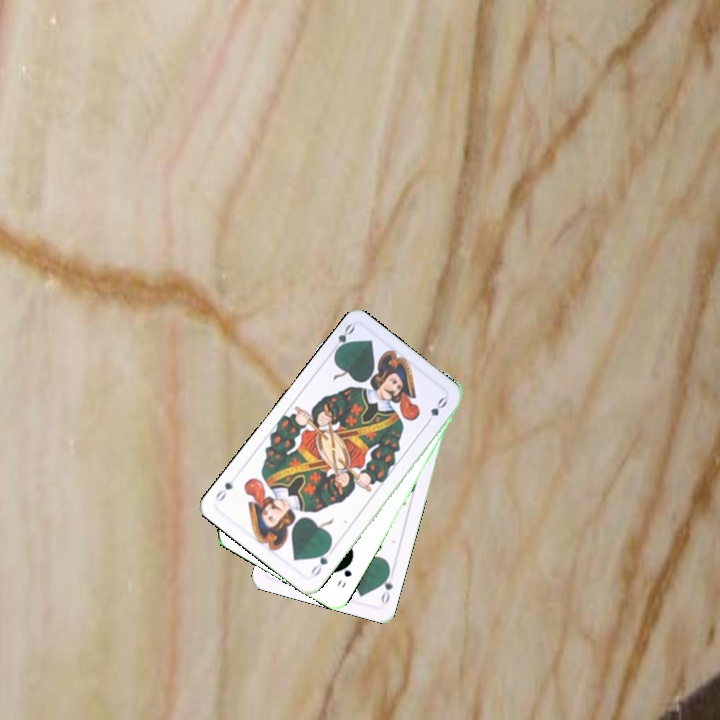GO: (326, 320, 357, 358), (307, 544, 333, 579), (377, 566, 396, 606), (333, 556, 355, 590)
